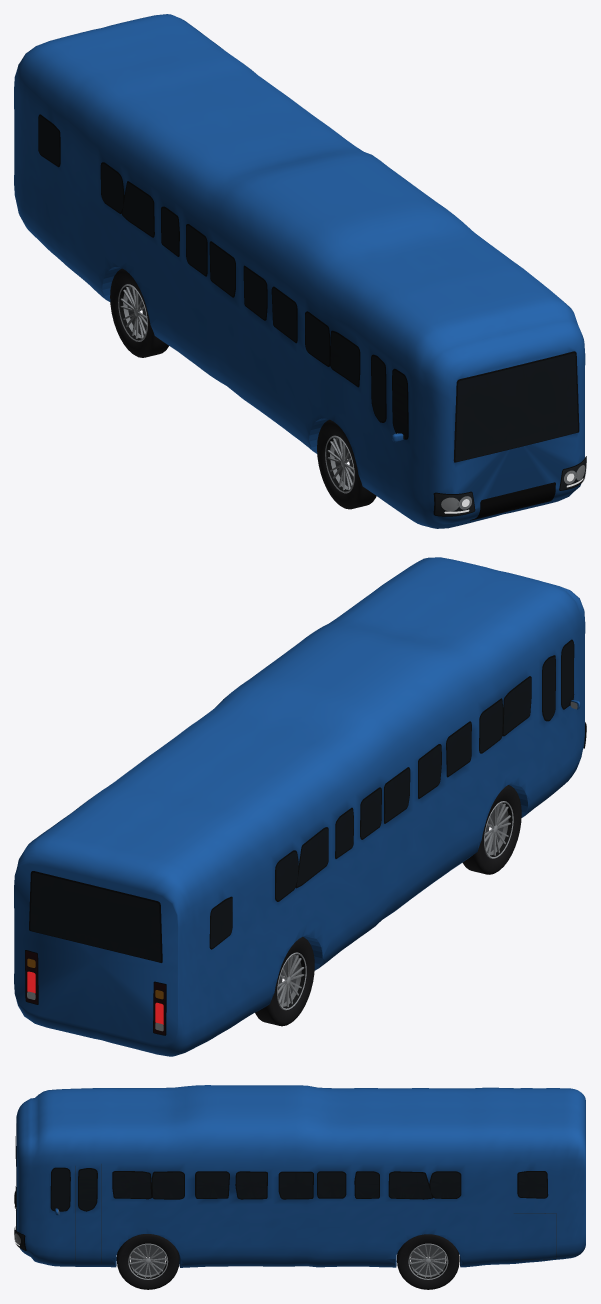
Rendered from indian_bus.glb.
The picture shows the model from 3 angles, top to bottom: view 1: azimuth 30°, elevation 25°; view 2: azimuth 150°, elevation 25°; view 3: azimuth 270°, elevation 25°; orthographic projection. The views are drawn at different scales.
Visible parts, largest first — view 1: body, wheel_FR, wheel_RR; view 2: body, wheel_FR, wheel_RR; view 3: body, wheel_FL, wheel_RL.
Boxes of the visible parts, x1,y1,x2,y2 form: body: (14,14,586,528); wheel_FR: (317,419,376,509); wheel_RR: (110,268,168,357); body: (14,557,586,1056); wheel_FR: (462,785,521,874); wheel_RR: (255,937,314,1026); body: (14,1085,585,1267); wheel_FL: (116,1234,179,1289); wheel_RL: (397,1234,459,1289).
Size of the model in its own units: 2.72 by 3.34 by 10.64.
